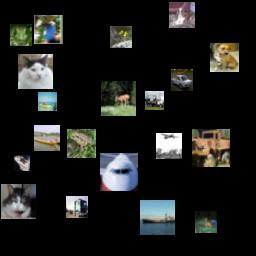airplane: (100, 153, 138, 191), (156, 133, 182, 159)
automobile: (171, 69, 193, 91)
bird: (34, 15, 63, 44), (110, 26, 132, 48)
cat: (1, 184, 36, 219), (18, 54, 53, 89)
deer: (101, 81, 136, 116), (195, 211, 217, 233)
dog: (210, 43, 239, 72), (169, 2, 195, 28)
frog: (67, 129, 96, 158), (10, 24, 32, 46)
ship: (140, 200, 175, 235), (34, 125, 60, 151), (38, 92, 57, 111), (14, 155, 30, 171)
truck: (192, 129, 230, 167), (66, 196, 88, 218), (145, 91, 164, 110)
